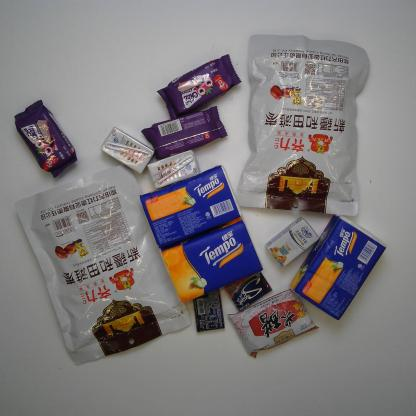Dessert: (156, 53, 243, 120), (12, 95, 76, 178), (138, 107, 232, 158)
Dried Food: (13, 163, 192, 368), (237, 30, 373, 218)
Gum: (225, 270, 274, 312), (193, 290, 226, 333)
Milk: (264, 215, 320, 267), (99, 126, 155, 174), (146, 149, 202, 191)
Seasoner: (226, 288, 320, 358)
Tissue: (288, 209, 390, 322), (158, 218, 266, 304), (139, 165, 246, 246)
